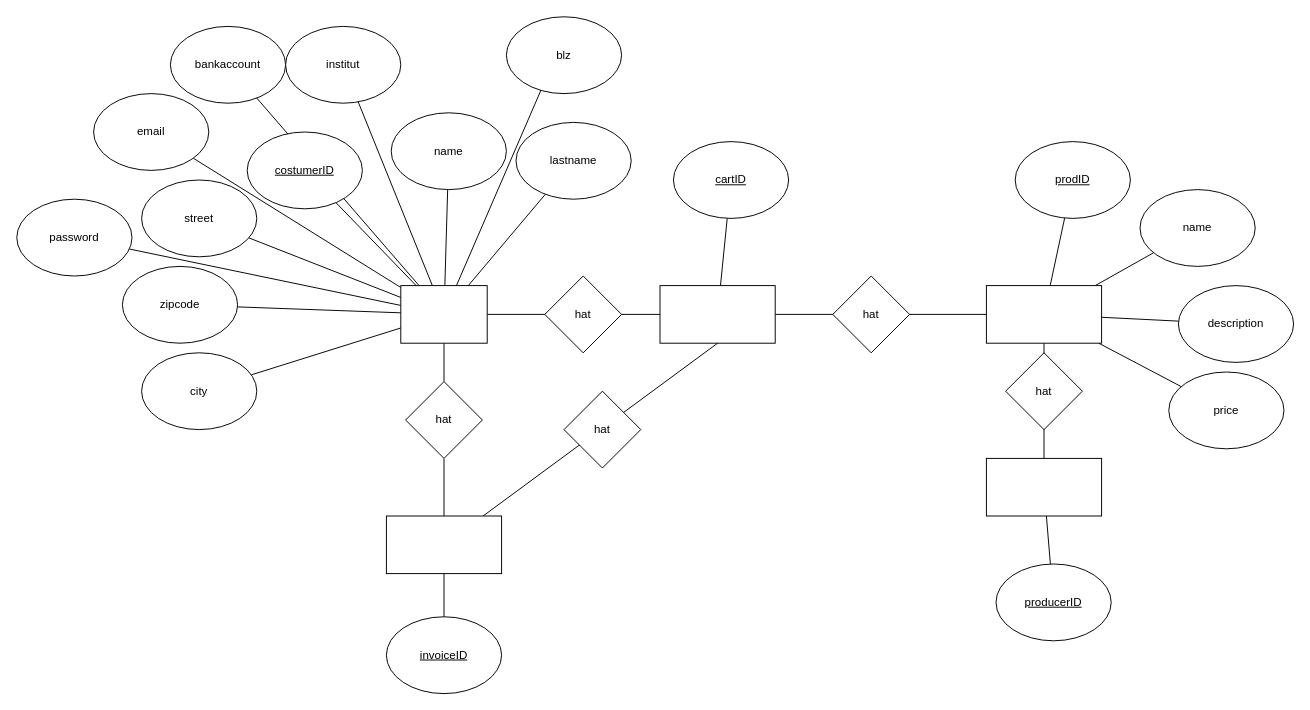
Image size: 1310x710. Some labels were removed from this diagram. Here are the shapes that lost their labels. From the top down, the box of each, then its label:
(400, 285, 487, 343): Costumer
(659, 285, 775, 343): Cart
(985, 285, 1102, 343): Products
(985, 457, 1102, 516): Producer
(385, 515, 502, 574): Invoice
